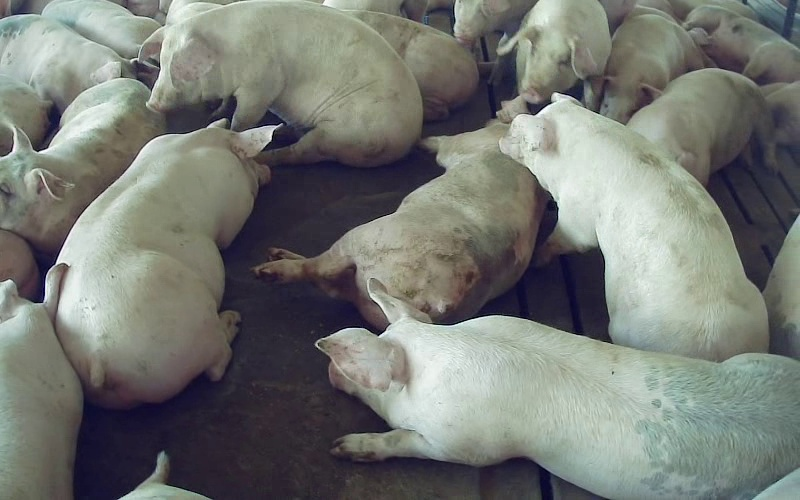pig: (317, 279, 799, 499), (500, 94, 767, 360), (255, 98, 546, 328), (55, 120, 274, 408), (140, 2, 421, 166), (0, 78, 165, 253), (0, 264, 82, 499), (627, 68, 776, 185), (498, 0, 611, 109), (600, 14, 713, 123), (683, 6, 799, 84), (42, 0, 160, 58)
